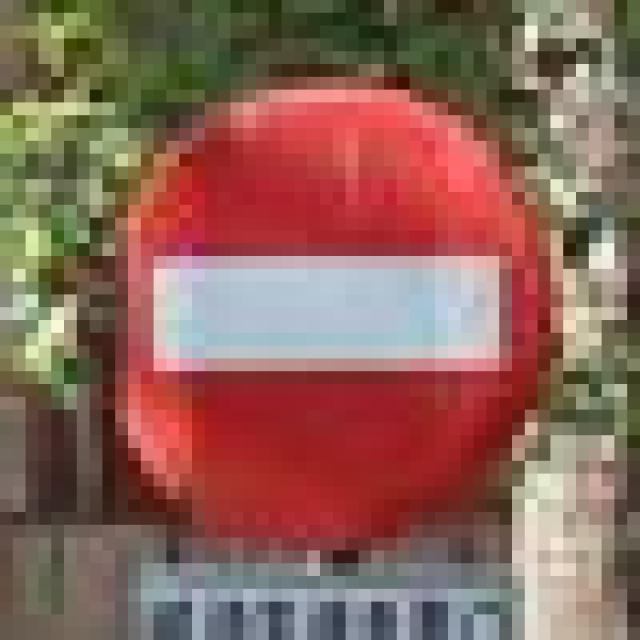Sens-Interdit: (102, 78, 547, 537)
